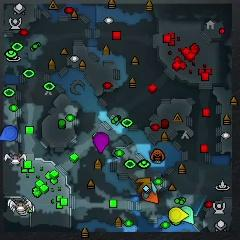p1: (0, 125, 18, 141)
p2: (181, 205, 194, 225)
p3: (93, 133, 109, 153)
p4: (169, 207, 188, 223)
p5: (142, 190, 159, 204)
x3: (144, 182, 156, 198)
x5: (135, 177, 151, 193)
